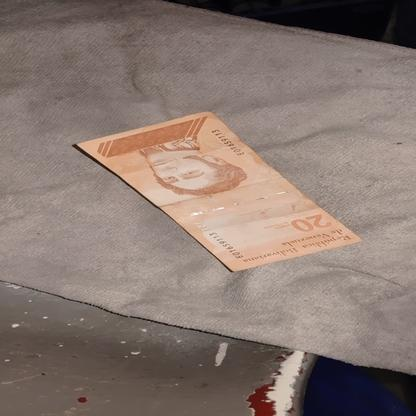twenty-front-vef: (75, 110, 362, 274)
